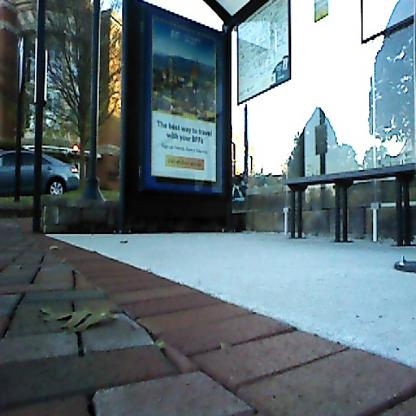Edge: (31, 238, 416, 416)
Sidewalk: (0, 233, 268, 416)
